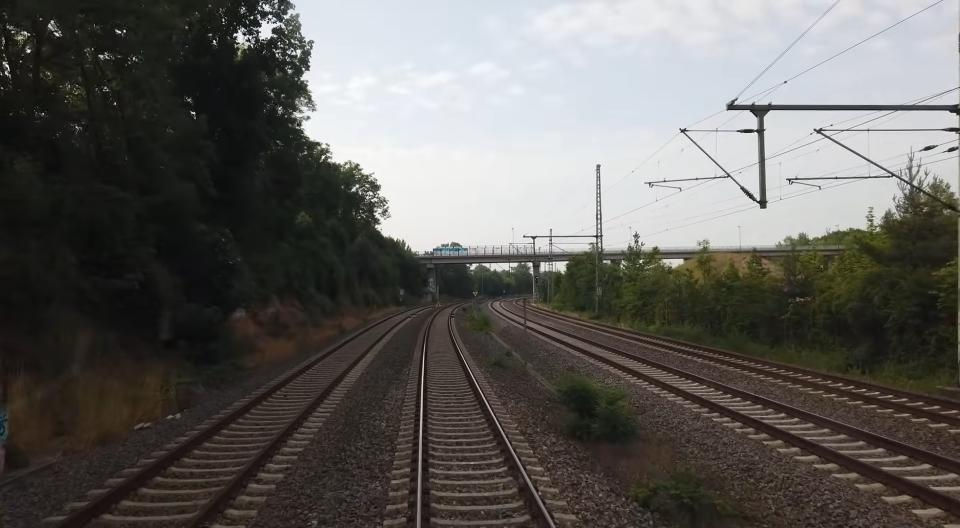Plant: (557, 373, 744, 528), (492, 352, 514, 369)
